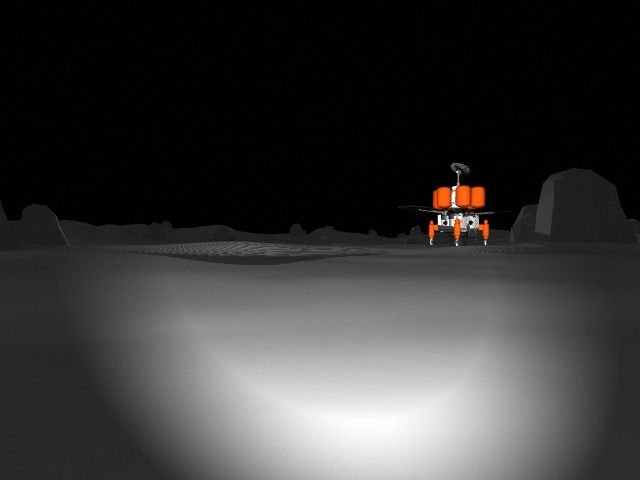homebase: (397, 160, 508, 249)
